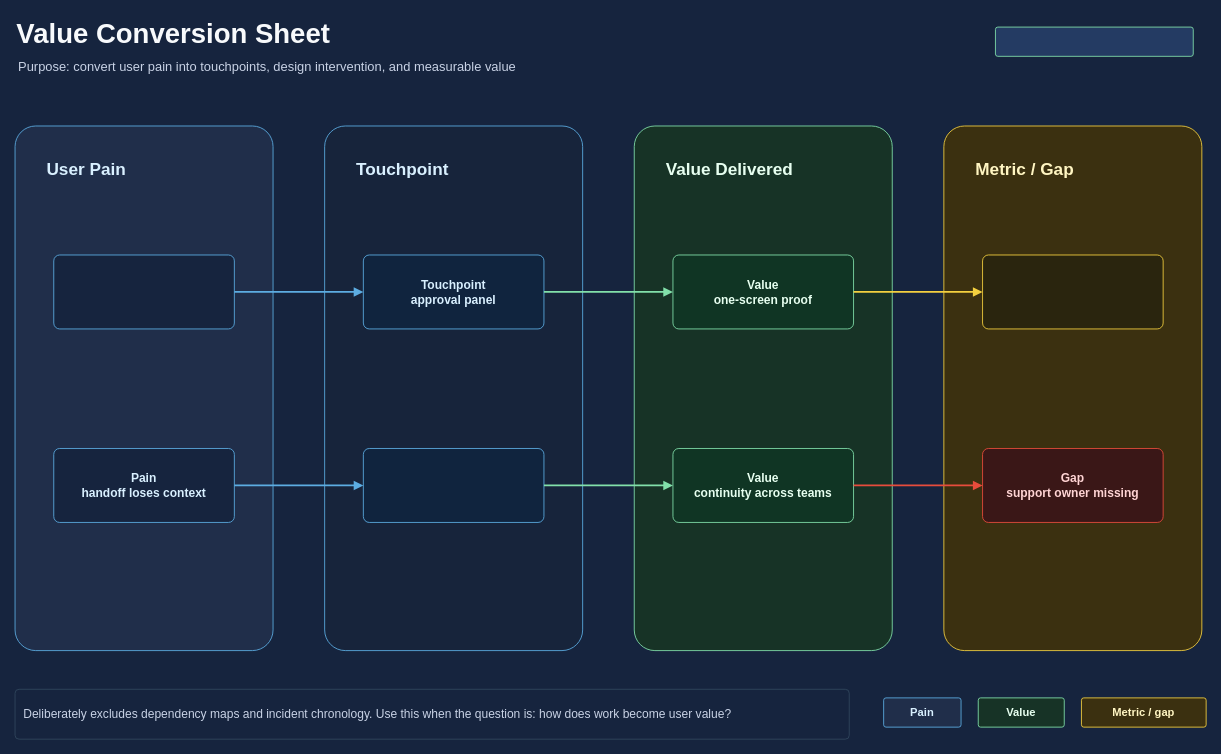
The diagram is 1221 pixels wide and 754 high, and some of its shapes have lost their labels. Here are the shapes that lost their labels. From the top down, the centre of each, then its label:
At point 1094,41: "Cross-functional value".
At point 143,291: "Pain review evidence is scattered".
At point 1072,291: "Metric review time 57h -> 31h".
At point 453,485: "Touchpoint handoff note".
